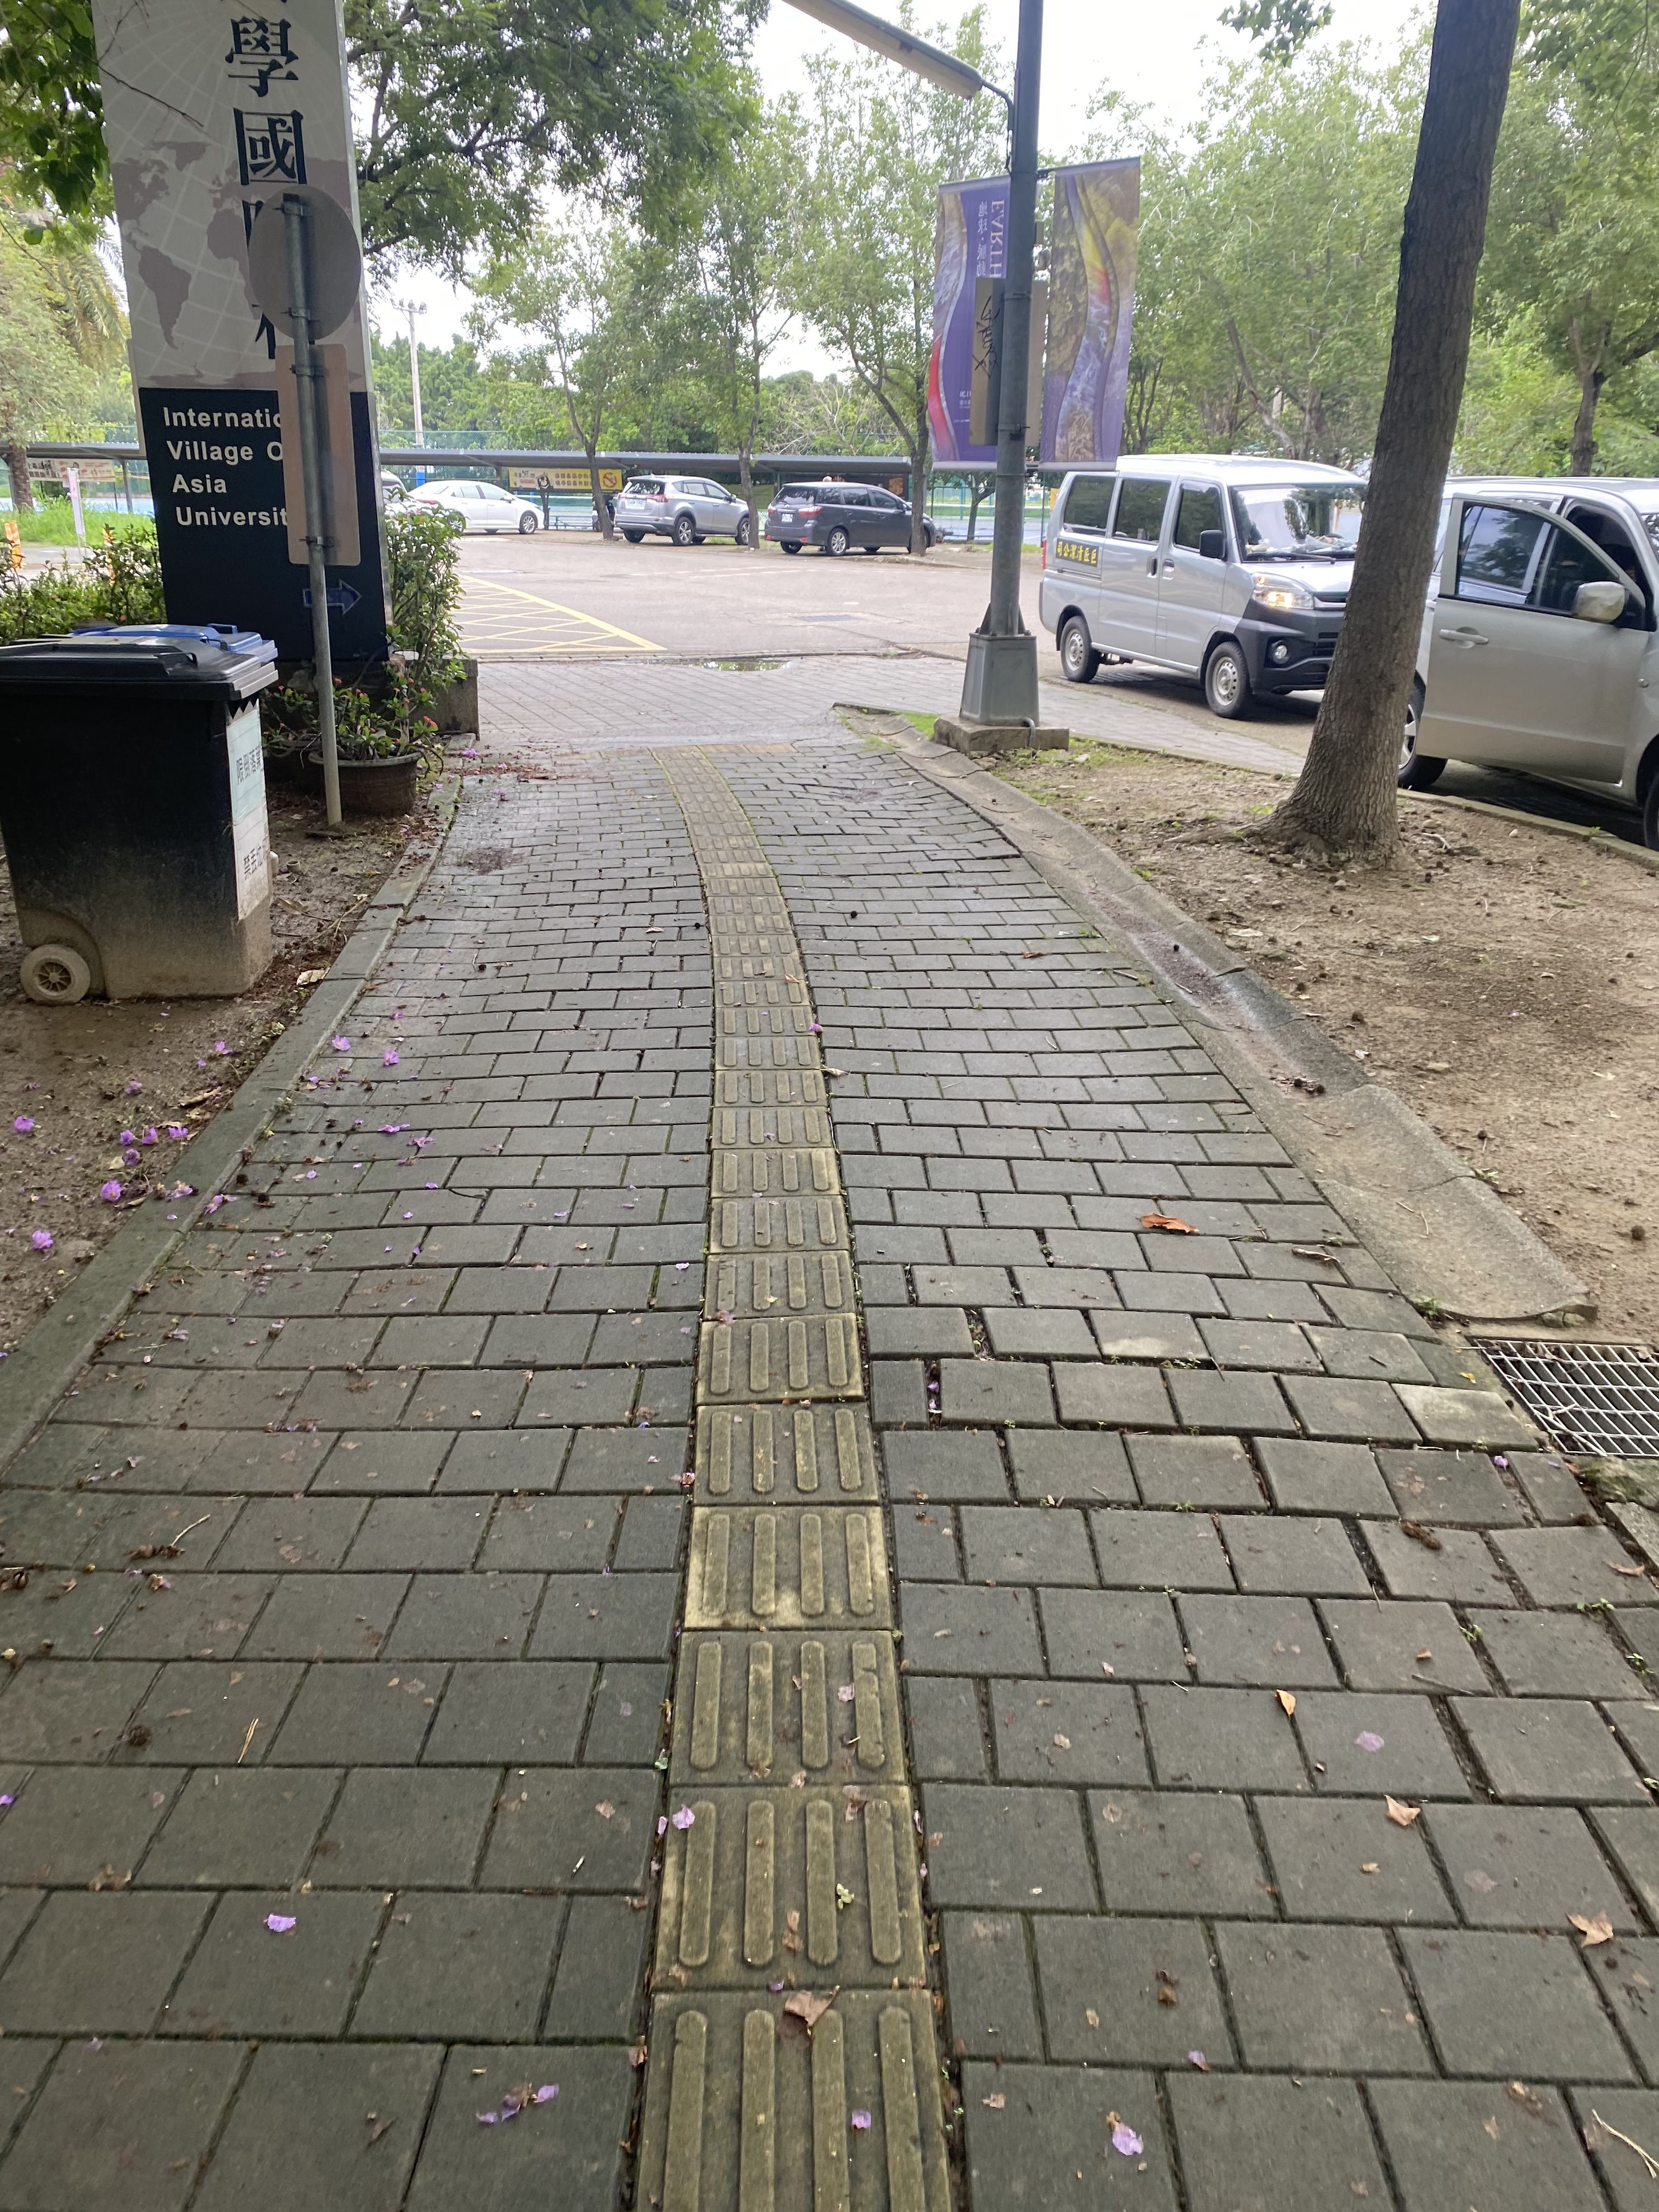sidewalk: (0, 657, 1659, 2210)
